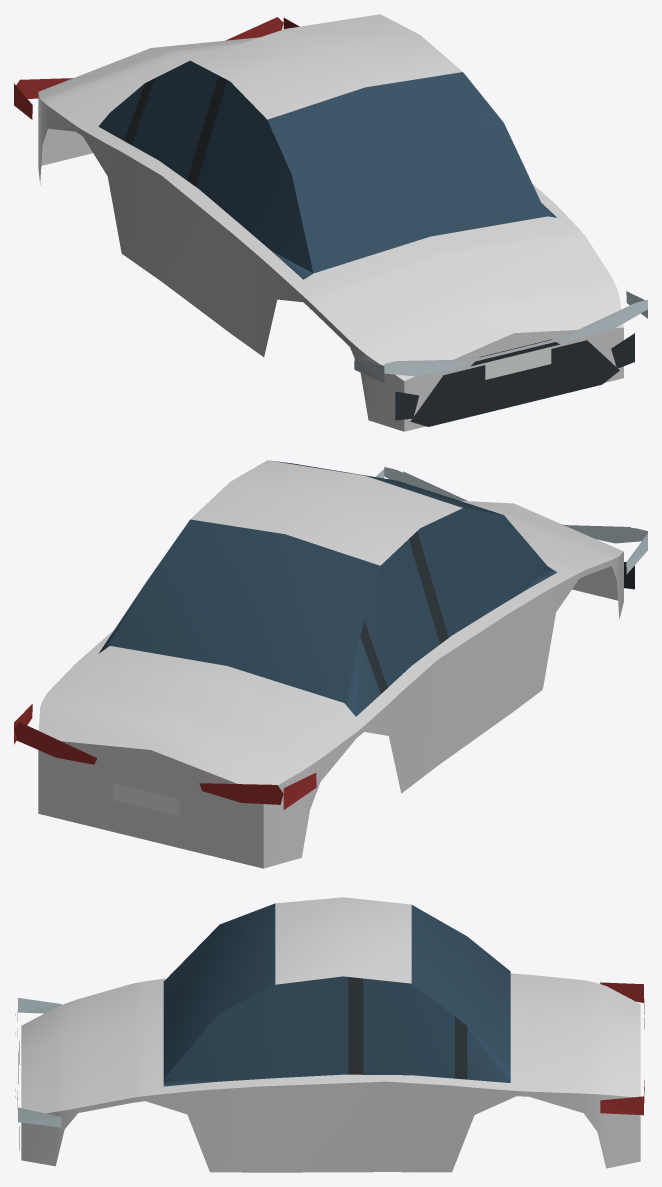
Rendered from veh_vios-lod2.glb.
3 views of the same model, one above another, from view 1: azimuth 30°, elevation 25°; view 2: azimuth 150°, elevation 25°; view 3: azimuth 270°, elevation 25° (orthographic). The views are drawn at different scales.
Visible parts, largest first — view 1: paint, glass, trim, head, tail, plate, chrome; view 2: paint, glass, tail, trim, head, plate; view 3: paint, glass, trim, tail, head.
Part boxes in pixels (bbox=[...]): paint: bbox=[38, 14, 623, 431]; glass: bbox=[98, 60, 556, 279]; trim: bbox=[124, 75, 634, 426]; head: bbox=[354, 291, 647, 382]; tail: bbox=[14, 17, 299, 119]; plate: bbox=[485, 347, 551, 379]; chrome: bbox=[403, 306, 630, 364]; paint: bbox=[38, 460, 623, 868]; glass: bbox=[99, 460, 557, 716]; tail: bbox=[14, 704, 316, 809]; trim: bbox=[360, 531, 634, 693]; head: bbox=[376, 467, 647, 573]; plate: bbox=[113, 783, 179, 815]; paint: bbox=[21, 897, 640, 1172]; glass: bbox=[163, 903, 510, 1086]; trim: bbox=[18, 977, 467, 1149]; tail: bbox=[600, 982, 644, 1115]; head: bbox=[16, 998, 61, 1127].
Size of the model in its own units: 1.23 by 0.9 by 2.79.
